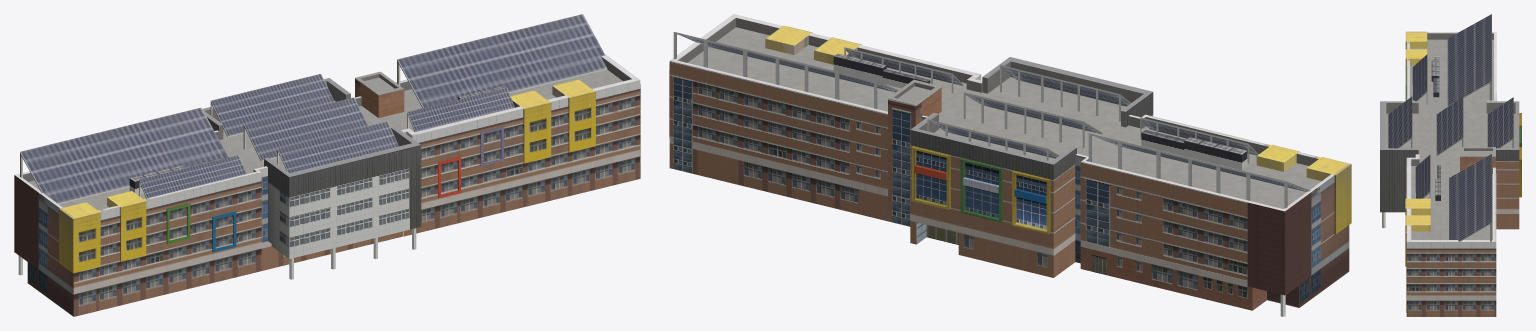
3 views of the same model, side by side, from view 1: azimuth 30°, elevation 25°; view 2: azimuth 150°, elevation 25°; view 3: azimuth 270°, elevation 25° (orthographic). The views are drawn at different scales.
Visible parts, largest first — view 1: MainBuilding; view 2: MainBuilding; view 3: MainBuilding.
Boxes of the visible parts, x1,y1,x2,y2 form: MainBuilding: (14, 14, 640, 316); MainBuilding: (669, 14, 1351, 316); MainBuilding: (1380, 14, 1521, 316).
Size of the model in its own units: 1.01 by 0.21 by 0.2871.
1 material, 1 textured.
